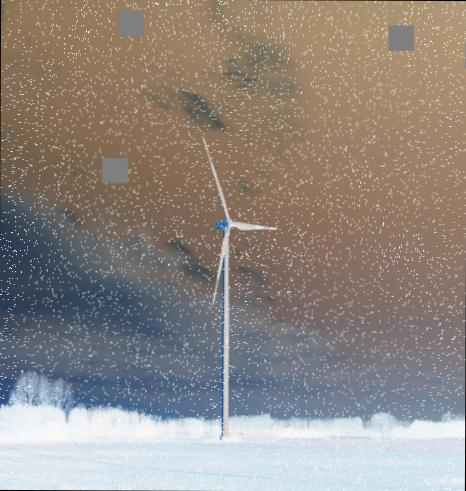wind turbine: (200, 137, 280, 435)
